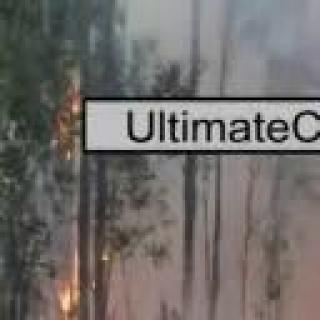fire: (56, 260, 118, 320), (58, 90, 90, 149)
